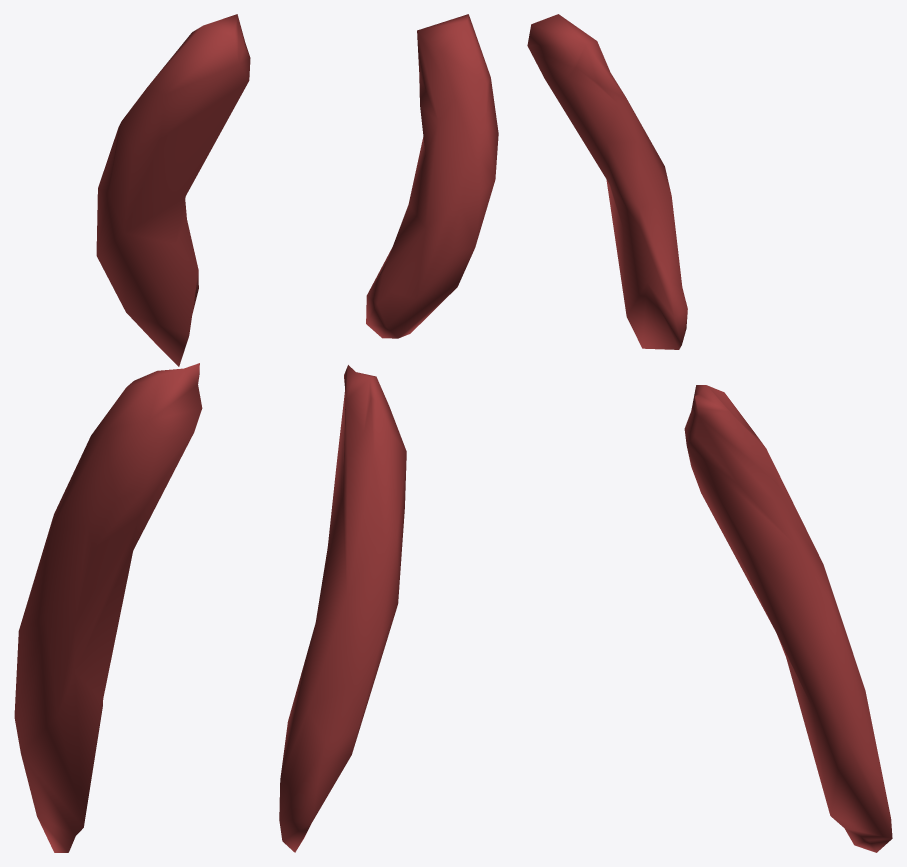
Rendered from interspinales-thoracis-muscles-r.glb.
3 views of the same model, side by side, from view 1: azimuth 30°, elevation 25°; view 2: azimuth 150°, elevation 25°; view 3: azimuth 270°, elevation 25° (orthographic). The views are drawn at different scales.
Visible parts, largest first — view 1: Interspinales thoracis muscles.r; view 2: Interspinales thoracis muscles.r; view 3: Interspinales thoracis muscles.r.
Part boxes in pixels (<box>): Interspinales thoracis muscles.r: <box>14,14,250,852</box>; Interspinales thoracis muscles.r: <box>279,14,498,852</box>; Interspinales thoracis muscles.r: <box>527,14,892,852</box>.
Size of the model in its own units: 0.00704 by 0.0449 by 0.018.
